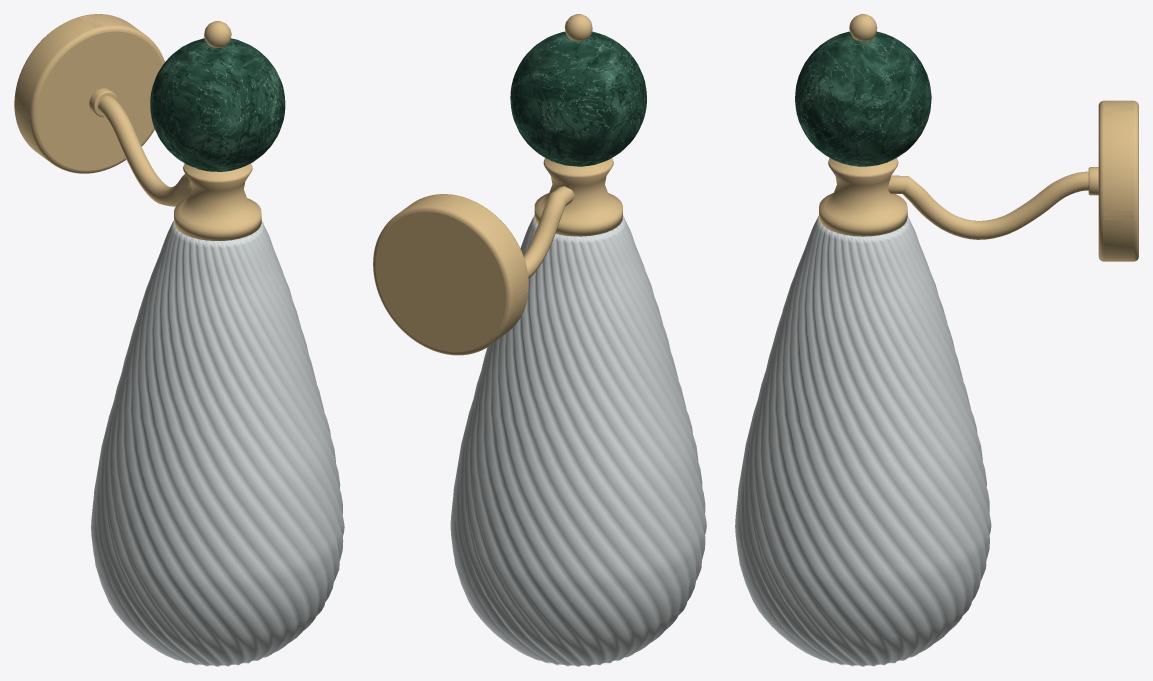
3 renders of one model, left to right at view 1: azimuth 30°, elevation 25°; view 2: azimuth 150°, elevation 25°; view 3: azimuth 270°, elevation 25°, orthographic.
Parts seen in each view (by area): view 1: glass, plate, ball, arm; view 2: glass, plate, ball, arm; view 3: glass, ball, arm, plate.
Part boxes in pixels (box(x1,y1,x2,y2)): glass: box(91, 220, 344, 666); plate: box(14, 14, 164, 173); ball: box(150, 38, 285, 171); arm: box(98, 21, 261, 240); glass: box(450, 215, 706, 666); plate: box(373, 194, 528, 355); ball: box(510, 31, 646, 166); arm: box(523, 14, 622, 278); glass: box(735, 215, 991, 666); ball: box(795, 31, 931, 166); arm: box(819, 14, 1088, 239); plate: box(1088, 100, 1138, 261).
Bounding box in the file's own units: 0.1274 × 0.343 × 0.2007.
4 materials, 1 textured.
